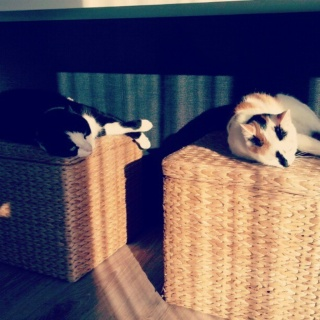Cat: (0, 91, 153, 157), (226, 89, 319, 168)
